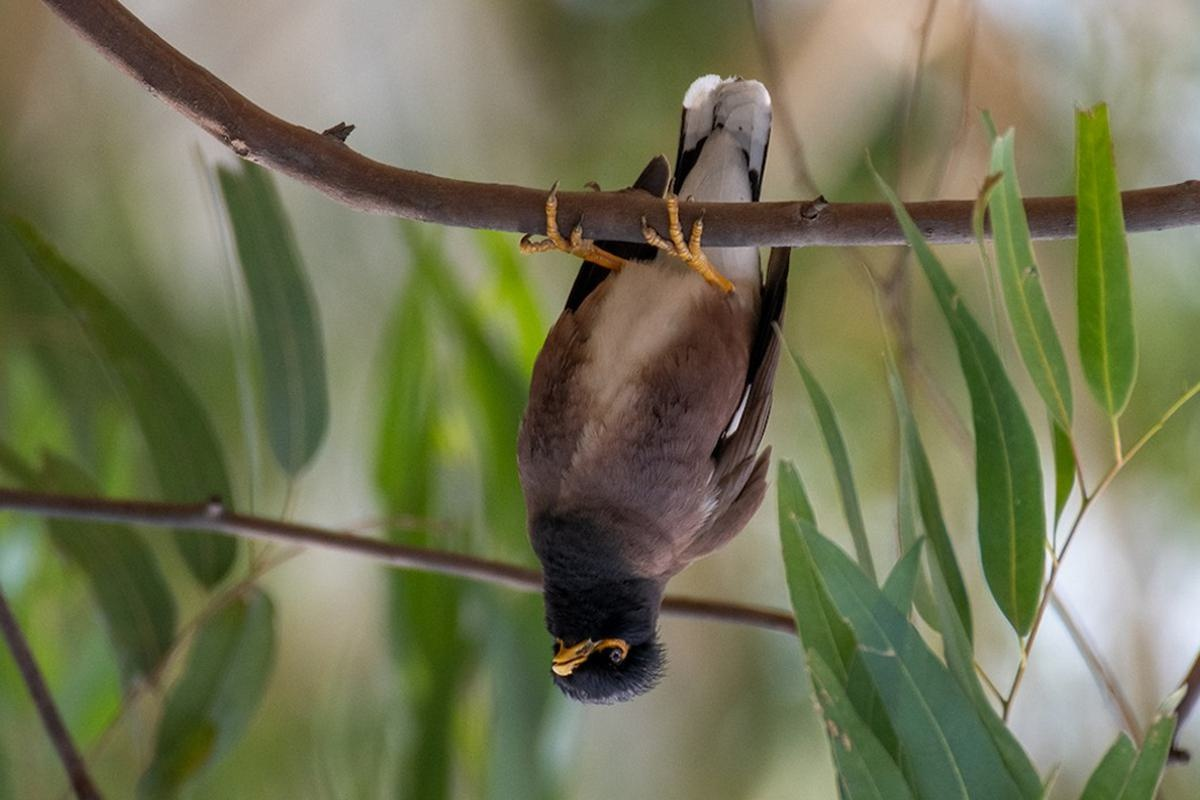myna: (474, 82, 807, 754)
